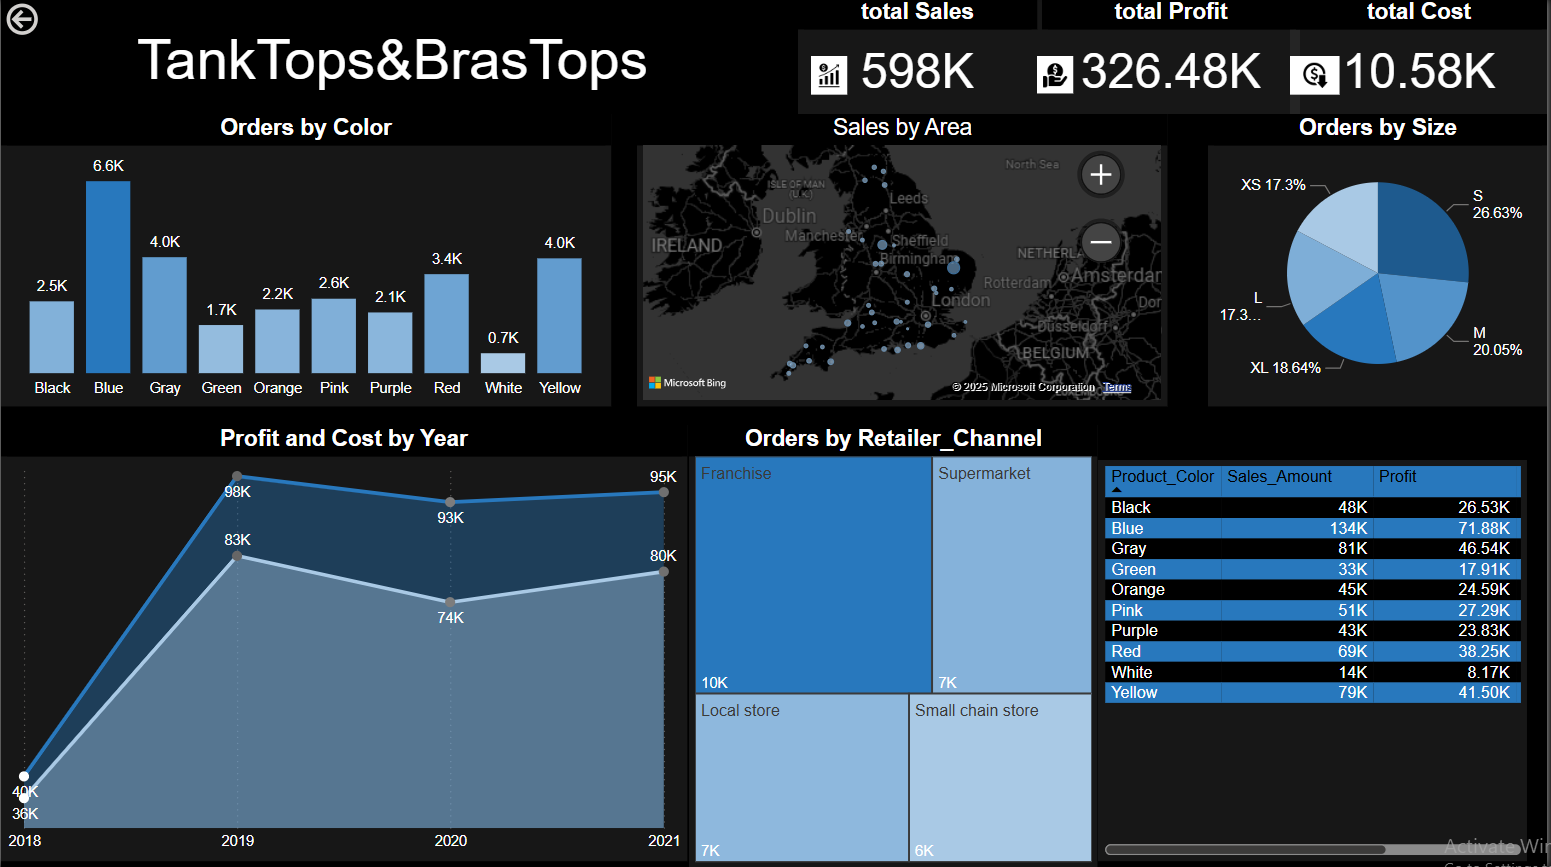

The dashboard page shown, as its layout file describes it:
{"tool":"powerbi","page":{"name":"TankTops&BrasTops","canvas":[1280,720],"ordinal":6},"visuals":[{"type":"card","fields":{"Values":["Table.TankTops&BrasTops"]},"box":[0,0,648,95.7],"z":0,"group":"g1"},{"type":"card","title":"total Sales","fields":{"Values":["Sum(Orders.Sales_Amount)"]},"box":[659.6,0,197.8,96],"z":0,"group":"g3"},{"type":"card","title":"total Profit","fields":{"Values":["Sum(Orders.Profit)"]},"box":[861.3,0,213.4,95.7],"z":0,"group":"g2"},{"type":"card","title":"total Cost","fields":{"Values":["Sum(Orders.Product_Cost)"]},"box":[1066.6,0,213.4,95.7],"z":0,"group":"g4"},{"type":"actionButton","box":[0,0,58,35.1],"z":1000,"group":"g1"},{"type":"image","box":[857.1,48.1,30.5,31.4],"z":1000,"group":"g2"},{"type":"image","box":[670.2,48.3,30.1,31.5],"z":1000,"group":"g3"},{"type":"image","box":[1066.6,48.3,41.3,31.6],"z":1000,"group":"g4"},{"type":"group","id":"g1","title":"Group 1","box":[0,0,648,95.7],"z":7000},{"type":"group","id":"g2","title":"Group 2","box":[857.1,0,217.5,95.7],"z":10001},{"type":"group","id":"g3","title":"Group 3","box":[659.6,0,197.8,96],"z":10002},{"type":"clusteredColumnChart","title":"Orders by Color","fields":{"Y":["Sum(Orders. Order_Quantity )"],"Category":["Products.Product_Color","Products.Product_Size"]},"box":[0,96,504.8,242.5],"z":10003},{"type":"tableEx","fields":{"Values":["Products.Product_Color","Sum(Orders.Sales_Amount)","Sum(Orders.Profit)","Sum(Orders.Cost_of_Goods_Sold)"]},"box":[907.9,382.3,355,331.9],"z":10004},{"type":"areaChart","title":"Profit and Cost by Year","fields":{"Category":["Orders.Order_Date.Variation.Date Hierarchy.Year","Orders.Order_Date.Variation.Date Hierarchy.Month"],"Y":["Sum(Orders.Profit)","Sum(Orders.Cost_of_Goods_Sold)"]},"box":[0,353.6,567.5,360.5],"z":10005},{"type":"treemap","title":"  Orders  by Retailer_Channel","fields":{"Values":["Sum(Orders. Order_Quantity )"],"Group":["Retailers.Retailer_Channel","Products.Product_Size"]},"box":[569.4,353.4,338.5,366.6],"z":10006},{"type":"pieChart","title":" Orders by Size","fields":{"Y":["Sum(Orders. Order_Quantity )"],"Category":["Products.Product_Size"]},"box":[998.8,95.7,281.2,242.4],"z":10007},{"type":"group","id":"g4","title":"Group 4","box":[1066.6,0,213.4,95.7],"z":10008},{"type":"map","title":" Sales by Area","fields":{"Size":["Sum(Orders.Sales_Amount)"],"Category":["Retailers.City","Retailers.Area"]},"box":[526.3,96,439.4,242.5],"z":10009}]}

Visuals, with their boxes in screenshot pixels (x1, y1, x2, y2), scaled from the page's 1280x720 canvas onto the 1551x867 screenshot:
card - Table.TankTops&BrasTops: 0, 0, 785, 115
"total Sales" card: 799, 0, 1039, 116
"total Profit" card: 1044, 0, 1302, 115
"total Cost" card: 1292, 0, 1550, 115
actionButton: 0, 0, 70, 42
image: 1039, 58, 1076, 96
image: 812, 58, 849, 96
image: 1292, 58, 1342, 96
"Group 1" group: 0, 0, 785, 115
"Group 2" group: 1039, 0, 1302, 115
"Group 3" group: 799, 0, 1039, 116
"Orders by Color" clusteredColumnChart: 0, 116, 612, 408
tableEx - Products.Product_Color x Sum(Orders.Sales_Amount): 1100, 460, 1530, 860
"Profit and Cost by Year" areaChart: 0, 426, 688, 860
"  Orders  by Retailer_Channel" treemap: 690, 426, 1100, 866
" Orders by Size" pieChart: 1210, 115, 1550, 407
"Group 4" group: 1292, 0, 1550, 115
" Sales by Area" map: 638, 116, 1170, 408
